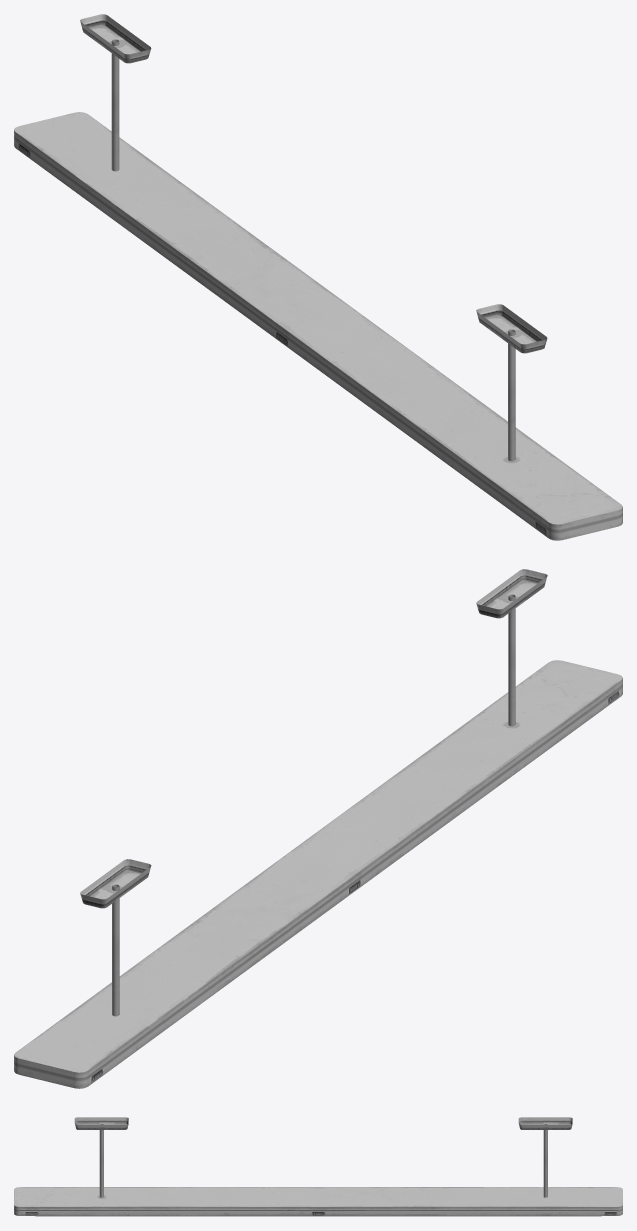
Rendered from HH_Lamp_02.fbx.
The picture shows the model from 3 angles, top to bottom: view 1: azimuth 30°, elevation 25°; view 2: azimuth 150°, elevation 25°; view 3: azimuth 270°, elevation 25°; orthographic projection. The views are drawn at different scales.
Visible parts, largest first — view 1: HH_Lamp_02_LOD0; view 2: HH_Lamp_02_LOD0; view 3: HH_Lamp_02_LOD0.
Part boxes in pixels (x1,y1,x2,y2): HH_Lamp_02_LOD0: (14, 14, 622, 540); HH_Lamp_02_LOD0: (14, 569, 622, 1088); HH_Lamp_02_LOD0: (14, 1117, 622, 1216).
Size of what is drawn, in the model's own units: 12.93 by 27.07 by 167.
